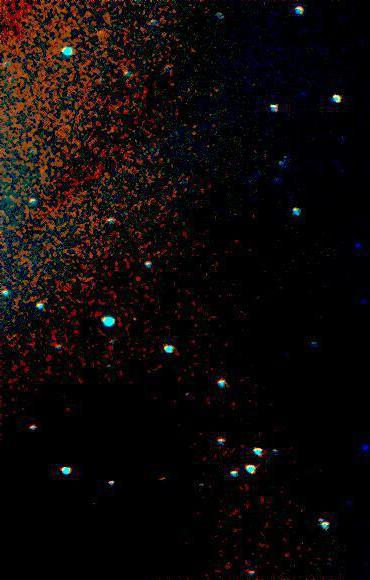star: (88, 18, 118, 48)
